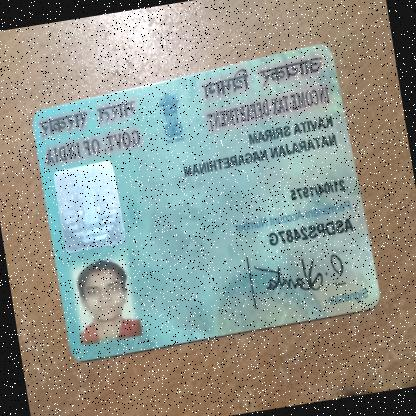pan_card: (18, 26, 387, 373)
